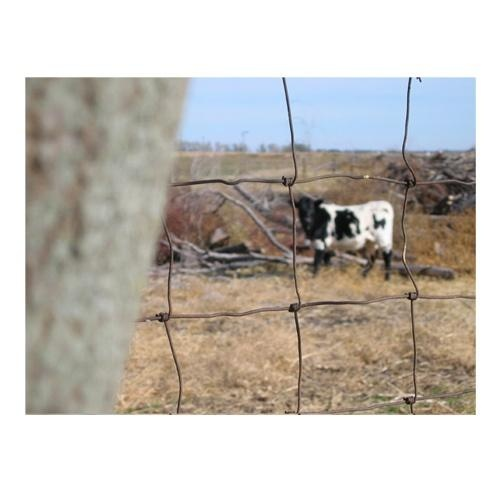cow: (284, 196, 400, 284)
